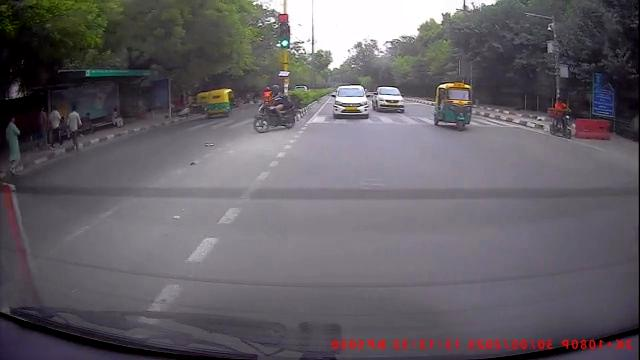motorcycle_with_helmet: (252, 83, 297, 134)
